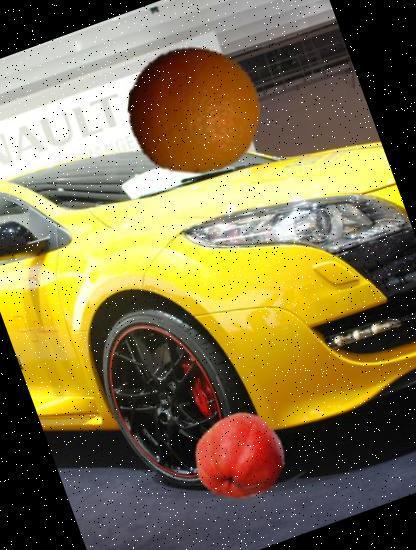Orange: (109, 25, 279, 194)
Pear: (181, 397, 299, 515)
